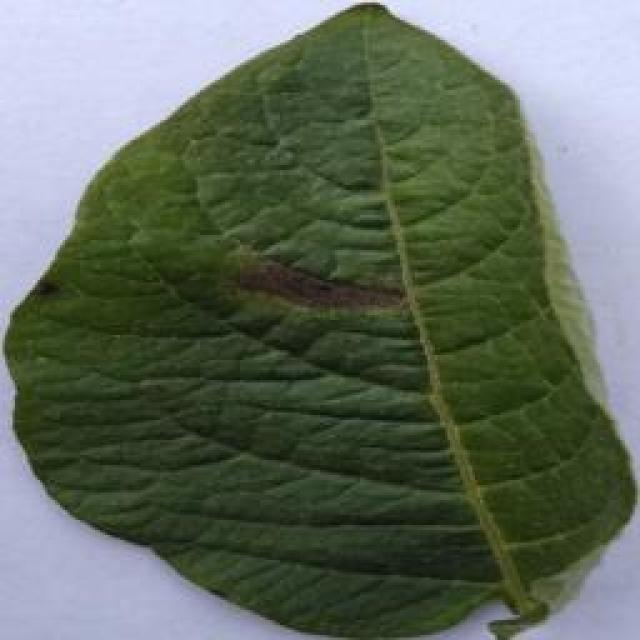Potato_Late_Blight: (3, 6, 632, 634)
